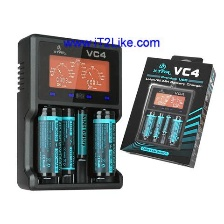battery: (34, 101, 62, 184), (92, 106, 118, 183), (58, 105, 76, 180), (73, 106, 91, 162)
book: (118, 51, 219, 170)
